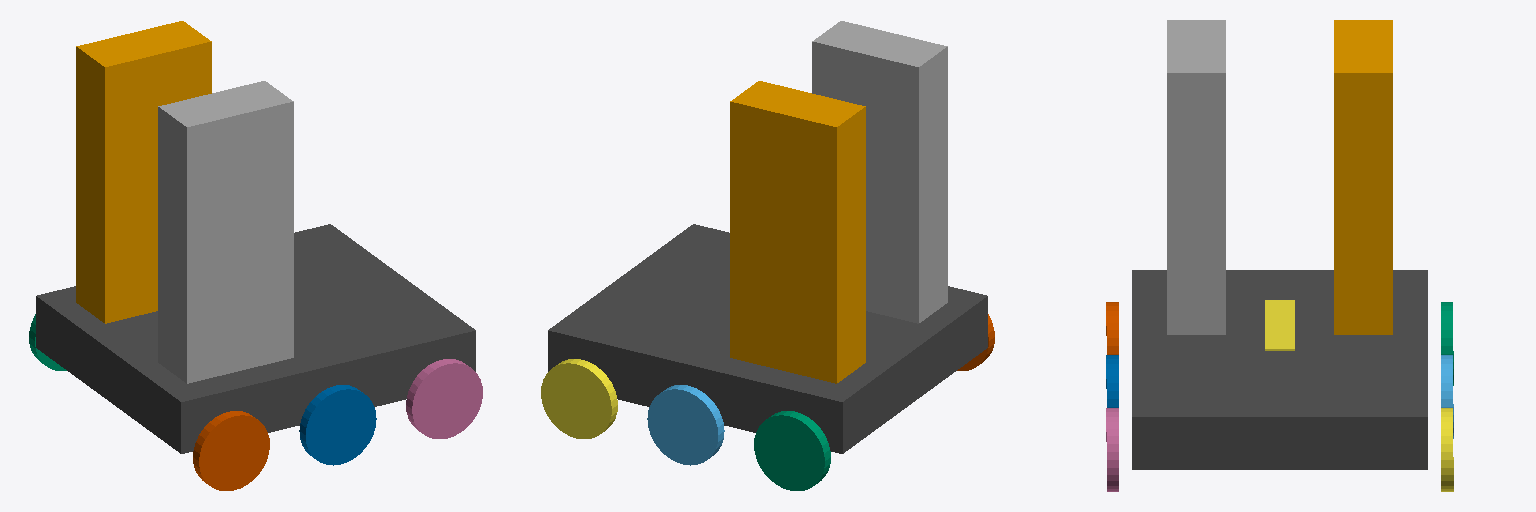
The robot description file, URDF, robot "myfirst":
<?xml version="1.0"?>
  <robot name="myfirst" xmlns:xacro="http://www.ros.org/wiki/xacro">
    <material name="gray">
      <color rgba="0.35 0.35 0.35 0.5"/>
    </material>


    <!-- ROBOT SIZE (allowed):
    28 inch * 33 inch
    71.12 cm * 83 cm

    HIGHET:
    139 cm.05" ixy="0.000" ixz="0.000" iyy="0.01" iyz="0.00" izz="0.01" />
      </inertial>


    WHEELS:
    diameter:
    4 inch = 10 cm


   -->

    <link name="base_link">
      <visual>
        <geometry>
          <box size="0.83 0.71 0.14"/>
        </geometry>
        <origin rpy="0 0 0" xyz="0 0 0.07"/>
        <material name="gray"/>
      </visual>

      <collision>
        <geometry>
          <box size="0.83 0.71 0.14"/>
        </geometry>
        <origin rpy="0 0 0" xyz="0 0 0.07"/>
      </collision>

      <inertial>
        <mass value='15.6'/>
        <inertia ixx="0.04" ixy="0.000" ixz="0.000" iyy="0.001" iyz="0.00" izz="0.001" />
      </inertial>
    </link>


    <link name="left_center_wheel">
      <visual>
        <geometry>
          <cylinder length="0.03" radius="0.1"/>
        </geometry>
        <origin rpy="1.57 1.57 0" xyz="0 0 0"/>
      </visual>

    <collision>
      <geometry>
        <cylinder length="0.024" radius="0.102"/>
      </geometry>
      <origin rpy="1.57 1.57 0" xyz="0 0 0"/>
    </collision>

    <inertial>
        <mass value="0.3"/>
        <inertia ixx="0.05" ixy="0.000" ixz="0.000" iyy="0.01" iyz="0.00" izz="0.01" />
      </inertial>
    </link>


    <joint name="left_center_wheel_to_base_link" type="continuous">
      <parent link="base_link"/>
      <child link="left_center_wheel"/>
      <origin xyz="0 0.4 0.0" rpy="0 1 0"/>
      <axis xyz="0 1 0"/>
    </joint>



    <link name="left_back_wheel">
      <visual>
        <geometry>
          <cylinder length="0.03" radius="0.1"/>
        </geometry>
        <origin rpy="1.57 1.57 0" xyz="0 0 0"/>
      </visual>

    <collision>
      <geometry>
        <cylinder length="0.024" radius="0.1"/>
      </geometry>
      <origin rpy="1.57 1.57 0" xyz="0 0 0"/>
    </collision>

    <inertial>
      <mass value="0.3"/>
      <inertia ixx="0.05" ixy="0.000" ixz="0.000" iyy="0.01" iyz="0.00" izz="0.01" />
    </inertial>
    </link>


    <joint name="left_back_wheel_to_base_link" type="continuous">
      <parent link="base_link"/>
      <child link="left_back_wheel"/>
      <origin xyz="-0.3 0.4 0.0" rpy="0 1 0"/>
      <axis xyz="0 1 0"/>
      <mimic joint="left_center_wheel_to_base_link" multiplier="1" offset="0"/>
    </joint>



    <link name="left_front_wheel">
      <visual>
        <geometry>
          <cylinder length="0.03" radius="0.1"/>
        </geometry>
        <origin rpy="1.57 1.57 0" xyz="0 0 0"/>
      </visual>

    <collision>
      <geometry>
        <cylinder length="0.024" radius="0.1"/>
      </geometry>
      <origin rpy="1.57 1.57 0" xyz="0 0 0"/>
    </collision>

    <inertial>
      <mass value="0.3"/>
      <inertia ixx="0.05" ixy="0.000" ixz="0.000" iyy="0.01" iyz="0.00" izz="0.01" />
    </inertial>
    </link>


    <joint name="left_front_wheel_to_base_link" type="continuous">
      <parent link="base_link"/>
      <child link="left_front_wheel"/>
      <origin xyz="0.3 0.4 0.0" rpy="0 1 0"/>
      <axis xyz="0 1 0"/>
      <mimic joint="left_center_wheel_to_base_link" multiplier="1" offset="0"/>
    </joint>

    <link name="right_center_wheel">
      <visual>
        <geometry>
          <cylinder length="0.03" radius="0.1"/>
        </geometry>
        <origin rpy="1.57 1.57 0" xyz="0 0 0"/>
      </visual>

    <collision>
      <geometry>
        <cylinder length="0.024" radius="0.102"/>
      </geometry>
      <origin rpy="1.57 1.57 0" xyz="0 0 0"/>
    </collision>

    <inertial>
        <mass value="0.3"/>
        <inertia ixx="0.05" ixy="0.000" ixz="0.000" iyy="0.01" iyz="0.00" izz="0.01" />
      </inertial>
    </link>


    <joint name="right_center_wheel_to_base_link" type="continuous">
      <parent link="base_link"/>
      <child link="right_center_wheel"/>
      <origin xyz="0 -0.4 0.0" rpy="0 1 0"/>
      <axis xyz="0 1 0"/>
    </joint>



    <link name="right_back_wheel">
      <visual>
        <geometry>
          <cylinder length="0.03" radius="0.1"/>
        </geometry>
        <origin rpy="1.57 1.57 0" xyz="0 0 0"/>
      </visual>

    <collision>
      <geometry>
        <cylinder length="0.024" radius="0.1"/>
      </geometry>
      <origin rpy="1.57 1.57 0" xyz="0 0 0"/>
    </collision>

    <inertial>
      <mass value="0.3"/>
      <inertia ixx="0.05" ixy="0.000" ixz="0.000" iyy="0.01" iyz="0.00" izz="0.01" />
    </inertial>
    </link>


    <joint name="right_back_wheel_to_base_link" type="continuous">
      <parent link="base_link"/>
      <child link="right_back_wheel"/>
      <origin xyz="-0.3 -0.4 0.0" rpy="0 1 0"/>
      <axis xyz="0 1 0"/>
      <mimic joint="right_center_wheel_to_base_link" multiplier="1" offset="0"/>
    </joint>



    <link name="right_front_wheel">
      <visual>
        <geometry>
          <cylinder length="0.03" radius="0.1"/>
        </geometry>
        <origin rpy="1.57 1.57 0" xyz="0 0 0"/>
      </visual>

    <collision>
      <geometry>
        <cylinder length="0.024" radius="0.1"/>
      </geometry>
      <origin rpy="1.57 1.57 0" xyz="0 0 0"/>
    </collision>

    <inertial>
      <mass value="0.3"/>
      <inertia ixx="0.00001" ixy="0.000" ixz="0.000" iyy="0.001" iyz="0.00" izz="0.0001" />
    </inertial>
    </link>


    <joint name="right_front_wheel_to_base_link" type="continuous">
      <parent link="base_link"/>
      <child link="right_front_wheel"/>
      <origin xyz="0.3 -0.4 0.0" rpy="0 1 0"/>
      <axis xyz="0 1 0"/>
      <mimic joint="right_center_wheel_to_base_link" multiplier="1" offset="0"/>
    </joint>


<!-- makbilit shit -->
    <link name='left_wall'>
      <visual>
        <geometry>
          <box size="0.3 0.14 0.7"/>
        </geometry>
        <origin rpy="0 0 0" xyz="0 0 0"/>
      </visual>

      <collision>
        <geometry>
          <box size="0.3 0.14 0.7"/>
        </geometry>
        <origin rpy="0 0 0" xyz="0 0 0"/>
      </collision>

      <inertial>
        <mass value="5"/>
        <inertia ixx="0.00001" ixy="0.000" ixz="0.000" iyy="0.001" iyz="0.00" izz="0.0001" />
      </inertial>
    </link>



    <joint name="left_wall_to_body" type="fixed">
      <parent link="base_link"/>
      <child link="left_wall"/>
      <origin xyz="-0.2 -0.2 0.48" rpy="0 0 0"/>
    </joint>

    <link name='right_wall'>
      <visual>
        <geometry>
          <box size="0.3 0.14 0.7"/>
        </geometry>
        <origin rpy="0 0 0" xyz="0 0 0"/>
      </visual>

      <collision>
        <geometry>
          <box size="0.3 0.14 0.7"/>
        </geometry>
        <origin rpy="0 0 0" xyz="0 0 0"/>
      </collision>

      <inertial>
        <mass value="5"/>
        <inertia ixx="0.00001" ixy="0.000" ixz="0.000" iyy="0.001" iyz="0.00" izz="0.0001" />
      </inertial>
    </link>



    <joint name="right_wall_to_body" type="fixed">
      <parent link="base_link"/>
      <child link="right_wall"/>
      <origin xyz="-0.2 0.2 0.48" rpy="0 0 0"/>
    </joint>

<!--
    <link name='makbilit'>
      <visual>
        <geometry>
          <box size="1.1 0.14 0.14"/>
        </geometry>
        <origin rpy="0 0 0" xyz="0.5 0 0"/>
      </visual>

      <collision>
        <geometry>
            <box size="1.1 0.14 0.14"/>
        </geometry>
        <origin rpy="0 0 0" xyz="0 0 0"/>
      </collision>

      <inertial>
        <mass value="20"/>
        <inertia ixx="0.00001" ixy="0.000" ixz="0.000" iyy="0.001" iyz="0.00" izz="0.0001" />
      </inertial>
    </link>




    <joint name="makbilit_to_body" type="revolute">
      <limit effort="1000.0" lower="-0.71" upper="0.71" velocity="0.5"/>
      <parent link="base_link"/>
      <child link="makbilit"/>
      <origin xyz="-0.2 0 0.8" rpy="0 0 0"/>
      <axis xyz="0 1 0"/>
    </joint>


    <link name='gripper'>
      <visual>
        <geometry>
          <box size="0.4 0.4 0.14"/>
        </geometry>
        <origin rpy="0 0 0" xyz="0.25 0 0"/>
      </visual>

      <collision>
        <geometry>
            <box size="0.5 0.5 0.14"/>
        </geometry>
        <origin rpy="0 0 0" xyz="0 0 0"/>
      </collision>

      <inertial>
        <mass value="6"/>
        <inertia ixx="0.00001" ixy="0.000" ixz="0.000" iyy="0.001" iyz="0.00" izz="0.0001" />
      </inertial>
    </link>




    <joint name="makbilit_to_gripper" type="revolute">
      <limit effort="1000.0" lower="-0.71" upper="0.71" velocity="0.5"/>
      <parent link="makbilit"/>
      <child link="gripper"/>
      <origin xyz="1 0 0" rpy="0 0 0"/>
      <axis xyz="0 1 0"/>
    </joint>


 -->






    <!-- camera position -->
    <joint name="camera_rgb_joint" type="fixed">
        <origin rpy="0 0 0" xyz="-0.065 -0.0125 0.152"/>
        <parent link="base_link"/>
        <child link="camera_rgb_frame"/>
    </joint>
    <link name="camera_rgb_frame"/>

    <joint name="camera_rgb_optical_joint" type="fixed">
      <origin rpy="-1.570795 0 -1.570795" xyz="0 0 0"/>
      <parent link="camera_rgb_frame"/>
      <child link="camera_rgb_optical_frame"/>
    </joint>
    <link name="camera_rgb_optical_frame"/>

    <joint name="camera_joint" type="fixed">
      <origin rpy="0 0 0" xyz="-0.031 0.0125 -0.016"/>
      <parent link="camera_rgb_frame"/>
      <child link="camera_link"/>
    </joint>
    <link name="camera_link">
      <visual>
        <origin rpy="0 0 1.570795" xyz="0 0 0"/>
        <geometry>
          <box size="0.07271 0.27794 0.02"/>
        </geometry>
      </visual>
      <collision>
        <origin xyz="0.0 0.0 0.0" rpy="0 0 0"/>
        <geometry>
          <box size="0.07271 0.27794 0.02"/>
        </geometry>
      </collision>
      <inertial>
        <mass value="0.564" />
        <origin xyz="0 0 0" />
        <inertia ixx="0.003881243" ixy="0.0" ixz="0.0"
                 iyy="0.000498940" iyz="0.0"
                 izz="0.003879257" />
      </inertial>
    </link>
    <!-- The fixed joints & links below are usually published by static_transformers launched by the OpenNi launch
           files. However, for Gazebo simulation we need them, so we add them here.
           (Hence, don't publish them additionally!) -->
    <joint name="camera_depth_joint" type="fixed">
      <origin rpy="0 0 0" xyz="0 0.025 0"/>
      <parent link="camera_rgb_frame"/>
      <child link="camera_depth_frame"/>
    </joint>
    <link name="camera_depth_frame"/>

    <joint name="camera_depth_optical_joint" type="fixed">
      <origin rpy="-1.570795 0 -1.570795" xyz="0 0 0"/>
      <parent link="camera_depth_frame"/>
      <child link="camera_depth_optical_frame"/>
    </joint>
    <link name="camera_depth_optical_frame"/>








    <!-- gazebo plugins -->




    <gazebo reference="base_link">
      <mu1>0.0</mu1>
      <mu2>0.0</mu2>
      <material>Gazebo/White</material>
    </gazebo>

    <gazebo reference="left_back_wheel_to_base_link">
      <mu1>0.3</mu1>
      <mu2>0.1</mu2>
      <kp>10.0</kp>
      <kd>10.0</kd>
      <minDepth>0.01</minDepth>
      <maxVel>10</maxVel>
      <material>Gazebo/Black</material>
    </gazebo>

    <gazebo reference="left_center_wheel_to_base_link">
      <mu1>0.3</mu1>
      <mu2>0.1</mu2>
      <kp>10.0</kp>
      <kd>10.0</kd>
      <minDepth>0.01</minDepth>
      <maxVel>10</maxVel>
      <material>Gazebo/Black</material>
    </gazebo>

    <gazebo reference="left_front_wheel_to_base_link">
      <mu1>0.3</mu1>
      <mu2>0.1</mu2>
      <kp>10.0</kp>
      <kd>10.0</kd>
      <minDepth>0.01</minDepth>
      <maxVel>10</maxVel>
      <material>Gazebo/Black</material>
    </gazebo>

    <gazebo reference="right_front_wheel_to_base_link">
      <mu1>0.3</mu1>
      <mu2>0.1</mu2>
      <kp>10.0</kp>
      <kd>10.0</kd>
      <minDepth>0.01</minDepth>
      <maxVel>10</maxVel>
      <material>Gazebo/Black</material>
    </gazebo>

    <gazebo reference="right_center_wheel_to_base_link">
      <mu1>0.3</mu1>
      <mu2>0.1</mu2>
      <kp>10.0</kp>
      <kd>10.0</kd>
      <minDepth>0.01</minDepth>
      <maxVel>10</maxVel>
      <material>Gazebo/Black</material>
    </gazebo>

    <gazebo reference="right_back_wheel_to_base_link">
      <mu1>0.3</mu1>
      <mu2>0.1</mu2>
      <kp>10.0</kp>
      <kd>10.0</kd>
      <minDepth>0.01</minDepth>
      <maxVel>10</maxVel>
      <material>Gazebo/Black</material>
    </gazebo>

    <gazebo>
      <plugin name="differential_drive_controller" filename="libgazebo_ros_diff_drive.so">
        <legacyMode>false</legacyMode>
        <publishTf>1</publishTf>
        <publishWheelTF>true</publishWheelTF>
        <publishWheelJointState>true</publishWheelJointState>
        <alwaysOn>true</alwaysOn>
        <updateRate>50</updateRate>
        <leftJoint>left_center_wheel_to_base_link </leftJoint>
        <rightJoint>right_center_wheel_to_base_link</rightJoint>
        <wheelSeparation>0.8</wheelSeparation>
        <wheelDiameter>0.1</wheelDiameter>
        <wheelTorque>7</wheelTorque>
        <wheelAcceleration>3</wheelAcceleration>
        <commandTopic>/cmd_vel</commandTopic>
        <odometryTopic>/odom</odometryTopic>
        <odometryFrame>/odom</odometryFrame>
        <robotBaseFrame>base_link</robotBaseFrame>
      </plugin>

    </gazebo>
    <gazebo>
      <plugin name="differential_drive_controller" filename="libgazebo_ros_diff_drive.so">
        <legacyMode>false</legacyMode>
        <publishTf>1</publishTf>
        <publishWheelTF>true</publishWheelTF>
        <publishWheelJointState>true</publishWheelJointState>
        <alwaysOn>true</alwaysOn>
        <updateRate>50</updateRate>
        <leftJoint>left_front_wheel_to_base_link </leftJoint>
        <rightJoint>right_front_wheel_to_base_link</rightJoint>
        <wheelSeparation>0.8</wheelSeparation>
        <wheelDiameter>0.1</wheelDiameter>
        <wheelTorque>7</wheelTorque>
        <wheelAcceleration>3</wheelAcceleration>
        <commandTopic>/cmd_vel</commandTopic>
        <odometryTopic>/odom</odometryTopic>
        <odometryFrame>/odom</odometryFrame>
        <robotBaseFrame>base_link</robotBaseFrame>
      </plugin>

    </gazebo>
    <gazebo>
      <plugin name="differential_drive_controller" filename="libgazebo_ros_diff_drive.so">
        <legacyMode>false</legacyMode>
        <publishTf>1</publishTf>
        <publishWheelTF>true</publishWheelTF>
        <publishWheelJointState>true</publishWheelJointState>
        <alwaysOn>true</alwaysOn>
        <updateRate>50</updateRate>
        <leftJoint>left_back_wheel_to_base_link </leftJoint>
        <rightJoint>right_back_wheel_to_base_link</rightJoint>
        <wheelSeparation>0.8</wheelSeparation>
        <wheelDiameter>0.1</wheelDiameter>
        <wheelTorque>7</wheelTorque>
        <wheelAcceleration>3</wheelAcceleration>
        <commandTopic>/cmd_vel</commandTopic>
        <odometryTopic>/odom</odometryTopic>
        <odometryFrame>/odom</odometryFrame>
        <robotBaseFrame>base_link</robotBaseFrame>
      </plugin>

    </gazebo>



    <gazebo reference="camera_link">
    <sensor type="depth" name="camera">
      <always_on>true</always_on>
      <update_rate>20.0</update_rate>
      <camera>
        <horizontal_fov>1.04719</horizontal_fov>
        <image>
          <format>B8G8R8</format>
          <width>640</width>
          <height>480</height>
        </image>
        <clip>
          <near>0.05</near>
          <far>8.0</far>
        </clip>
      </camera>
      <plugin name="kinect_camera_controller" filename="libgazebo_ros_openni_kinect.so">
        <cameraName>camera</cameraName>
        <alwaysOn>true</alwaysOn>
        <updateRate>10</updateRate>
        <imageTopicName>rgb/image_raw</imageTopicName>
        <depthImageTopicName>depth/image_raw</depthImageTopicName>
        <pointCloudTopicName>depth/points</pointCloudTopicName>
        <cameraInfoTopicName>rgb/camera_info</cameraInfoTopicName>
        <depthImageCameraInfoTopicName>depth/camera_info</depthImageCameraInfoTopicName>
        <frameName>camera_depth_optical_frame</frameName>
        <baseline>0.1</baseline>
        <distortion_k1>0.0</distortion_k1>
        <distortion_k2>0.0</distortion_k2>
        <distortion_k3>0.0</distortion_k3>
        <distortion_t1>0.0</distortion_t1>
        <distortion_t2>0.0</distortion_t2>
        <pointCloudCutoff>0.4</pointCloudCutoff>
      </plugin>
    </sensor>
  </gazebo>
  </robot>

--- What the picture shows (computed from the rendered views, not written in the file) ---
Views: 3 orthographic renders of the robot side by side, from view 1: azimuth 30°, elevation 25°; view 2: azimuth 150°, elevation 25°; view 3: azimuth 270°, elevation 25°.
Model myfirst with 14 links and 13 joints (6 continuous, 7 fixed), rooted at base_link, posed all joints at 0.
Visible links, largest first — view 1: base_link, left_wall, right_wall, right_back_wheel, right_front_wheel, right_center_wheel; view 2: base_link, right_wall, left_wall, left_back_wheel, left_front_wheel, left_center_wheel; view 3: base_link, left_wall, right_wall, camera_link, left_front_wheel, right_front_wheel, left_center_wheel, left_back_wheel, right_center_wheel, right_back_wheel.
Link boxes in pixels (x1=…): base_link: x1=36, y1=224, x2=475, y2=453; left_wall: x1=158, y1=81, x2=293, y2=383; right_wall: x1=76, y1=21, x2=211, y2=323; right_back_wheel: x1=193, y1=411, x2=269, y2=490; right_front_wheel: x1=406, y1=359, x2=482, y2=438; right_center_wheel: x1=299, y1=385, x2=376, y2=465; base_link: x1=548, y1=224, x2=987, y2=453; right_wall: x1=730, y1=81, x2=865, y2=383; left_wall: x1=812, y1=21, x2=947, y2=323; left_back_wheel: x1=754, y1=411, x2=830, y2=490; left_front_wheel: x1=541, y1=359, x2=617, y2=438; left_center_wheel: x1=647, y1=385, x2=724, y2=465; base_link: x1=1132, y1=270, x2=1427, y2=469; left_wall: x1=1167, y1=20, x2=1225, y2=334; right_wall: x1=1334, y1=20, x2=1392, y2=334; camera_link: x1=1265, y1=300, x2=1294, y2=350; left_front_wheel: x1=1441, y1=408, x2=1453, y2=491; right_front_wheel: x1=1106, y1=408, x2=1118, y2=491; left_center_wheel: x1=1441, y1=355, x2=1453, y2=438; left_back_wheel: x1=1441, y1=302, x2=1453, y2=385; right_center_wheel: x1=1106, y1=355, x2=1118, y2=407; right_back_wheel: x1=1106, y1=302, x2=1118, y2=354.
Bounding box of the posed robot: 0.83 × 0.8302 × 0.93 m (x, y, z).
Geometry: primitives only (box / cylinder / sphere), no mesh files.
